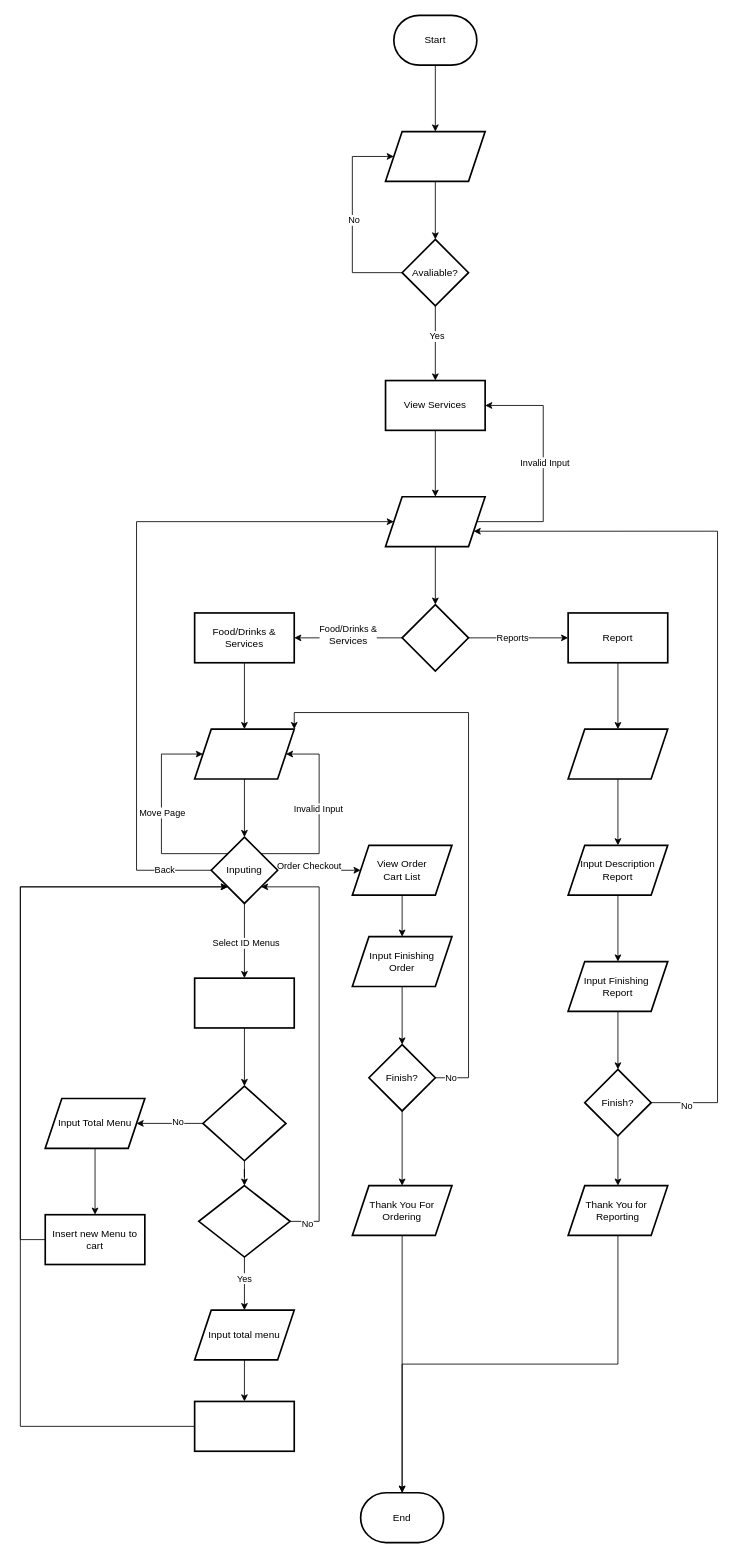
Some shapes in this 739 by 1557 pixel diagram are drawn without their labels. Here are the shapes that lost their labels. From the top down, the box of each, then its label:
(384, 130, 486, 182): Input Room
(384, 496, 486, 547): Choosing Service
(401, 603, 469, 671): Services
(193, 728, 295, 779): View Menus
(567, 728, 668, 779): View Report
(193, 977, 295, 1028): Selecting Menu From List
(202, 1085, 286, 1161): Menu Already on Cart?
(198, 1184, 290, 1257): Want to Update?
(193, 1400, 295, 1452): Updating Cart List
